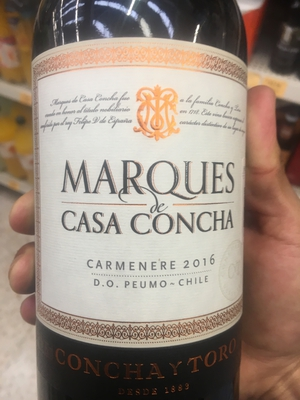marques de casa concha carmenere: (28, 7, 257, 400)
